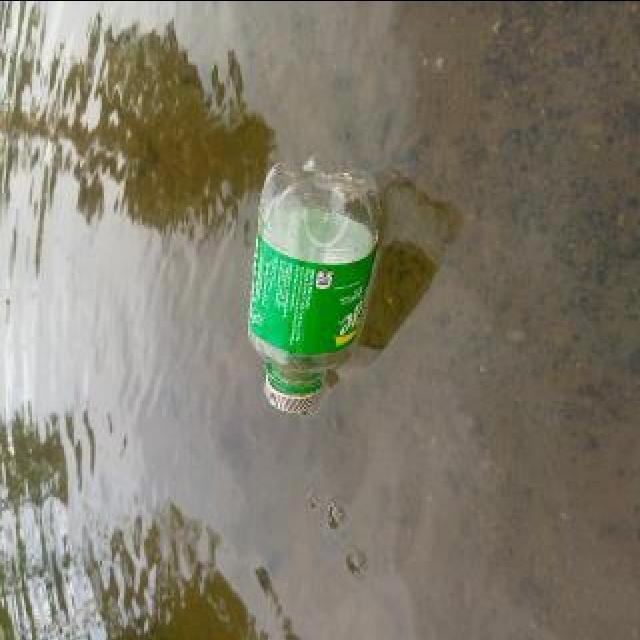Bottle: (238, 152, 388, 418)
